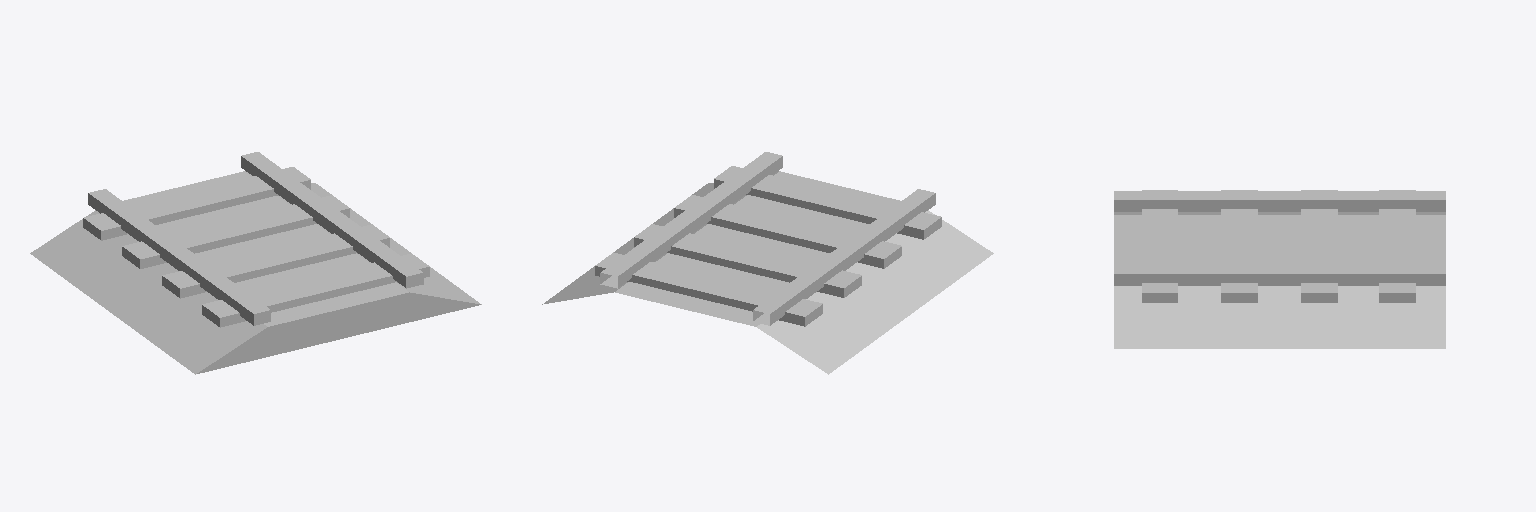
The model's file is SM_Env_Track_Straight_02.obj.
The picture shows the model from 3 angles: view 1: azimuth 30°, elevation 25°; view 2: azimuth 150°, elevation 25°; view 3: azimuth 270°, elevation 25°; orthographic projection.
Parts seen in each view (by area): view 1: SM_Env_Track_Straight_02:Mesh; view 2: SM_Env_Track_Straight_02:Mesh; view 3: SM_Env_Track_Straight_02:Mesh.
Boxes of the visible parts, x1,y1,x2,y2 form: SM_Env_Track_Straight_02:Mesh: [30, 152, 481, 374]; SM_Env_Track_Straight_02:Mesh: [542, 152, 993, 374]; SM_Env_Track_Straight_02:Mesh: [1114, 190, 1445, 348].
Bounding box in the file's own units: 5 × 0.7719 × 5.